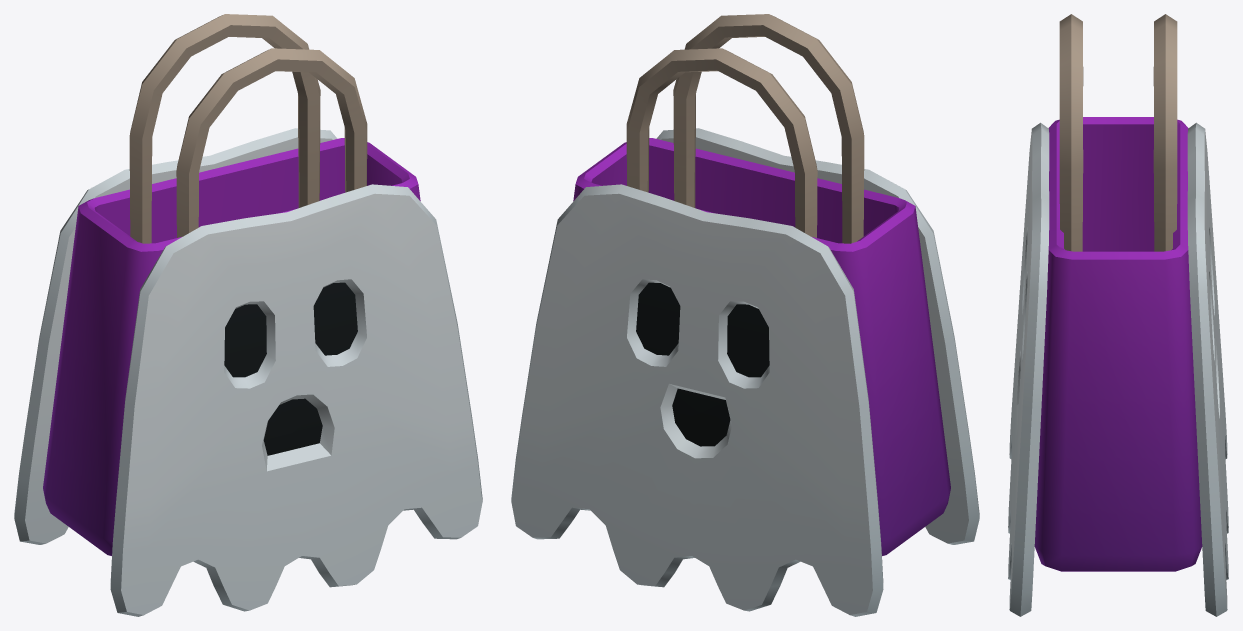
The model's file is ghost_tote.gltf.
3 renders of one model, left to right at view 1: azimuth 30°, elevation 25°; view 2: azimuth 150°, elevation 25°; view 3: azimuth 270°, elevation 25°, orthographic.
Parts seen in each view (by area): view 1: ghost_tote; view 2: ghost_tote; view 3: ghost_tote.
Part boxes in pixels (box(x1,y1,x2,y2)): ghost_tote: box(14, 14, 482, 616); ghost_tote: box(511, 14, 979, 616); ghost_tote: box(1008, 14, 1228, 616).
Bounding box in the file's own units: 0.7823 × 1.07 × 0.3998.
1 material, 1 textured.
